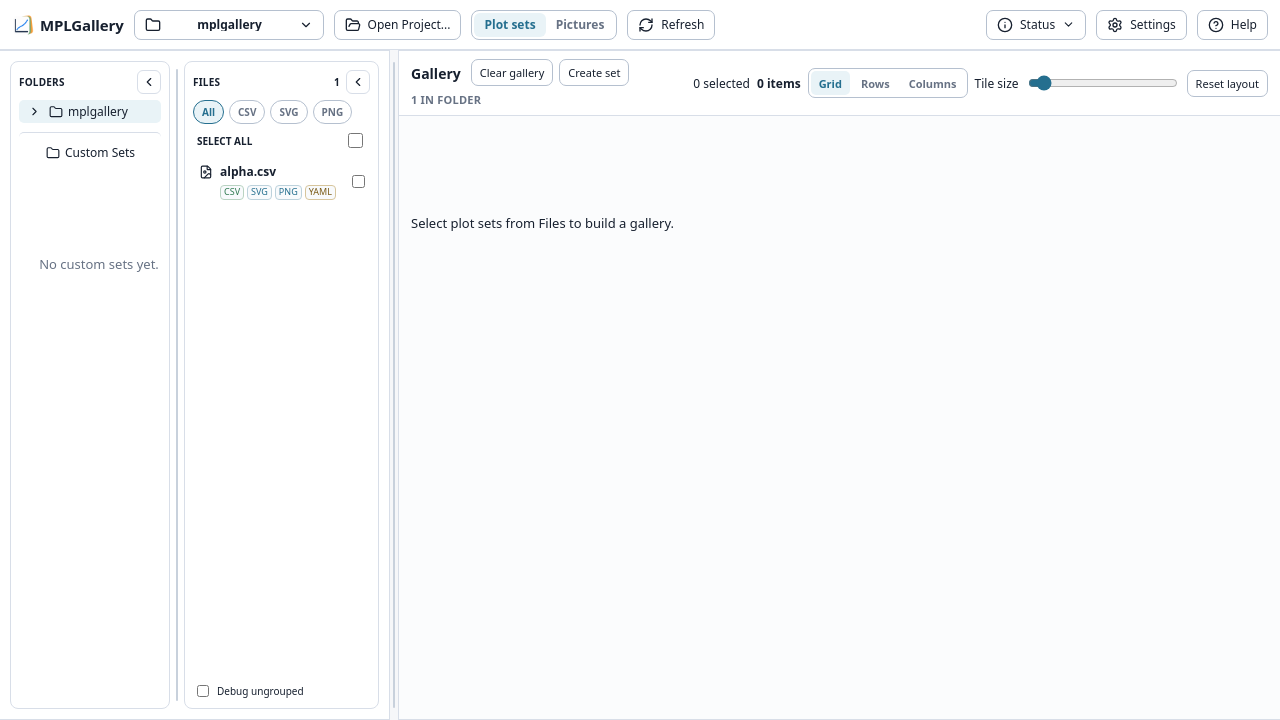
it: App explorer › plot-set cards expose CSV and image attachment tabs
Step 1. Click the checkbox named "Show alpha.csv" → (358, 181), box [352,175,365,188]
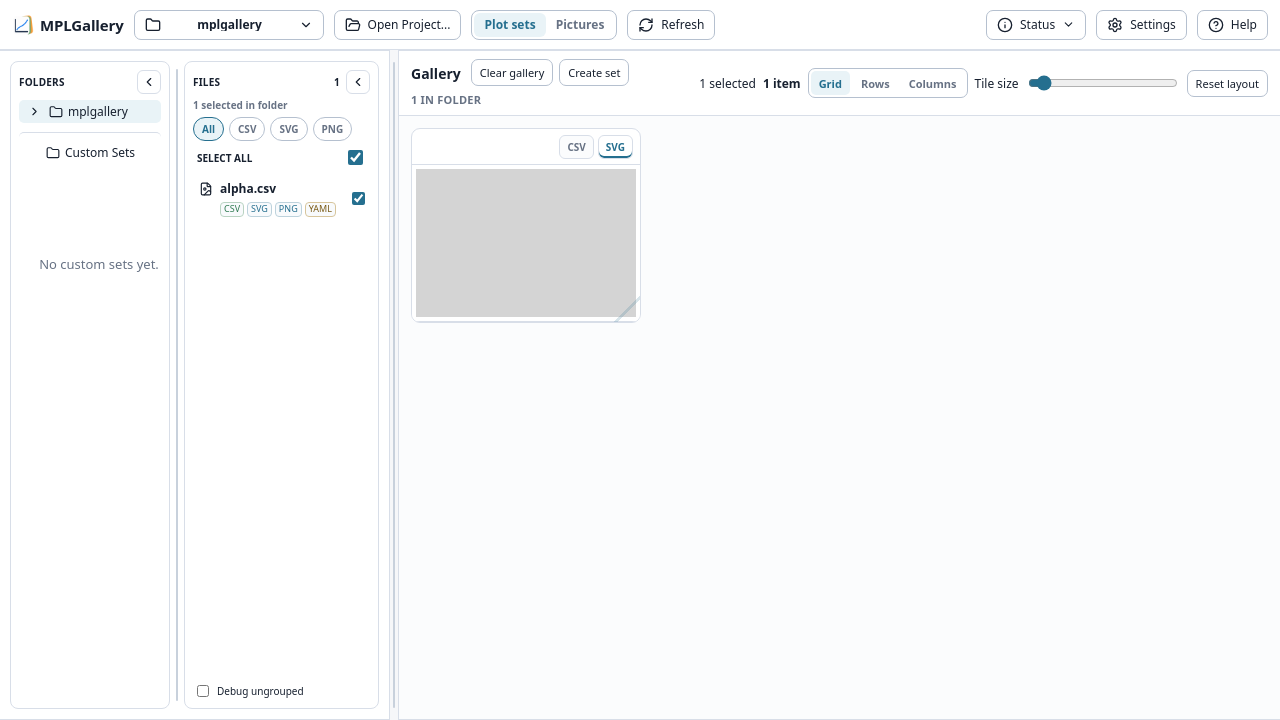
expect the checkbox named "Show alpha.csv" is checked: met, box [352,192,365,205]
Step 2. Click the tab "CSV" → (577, 146), box [560,134,594,158]
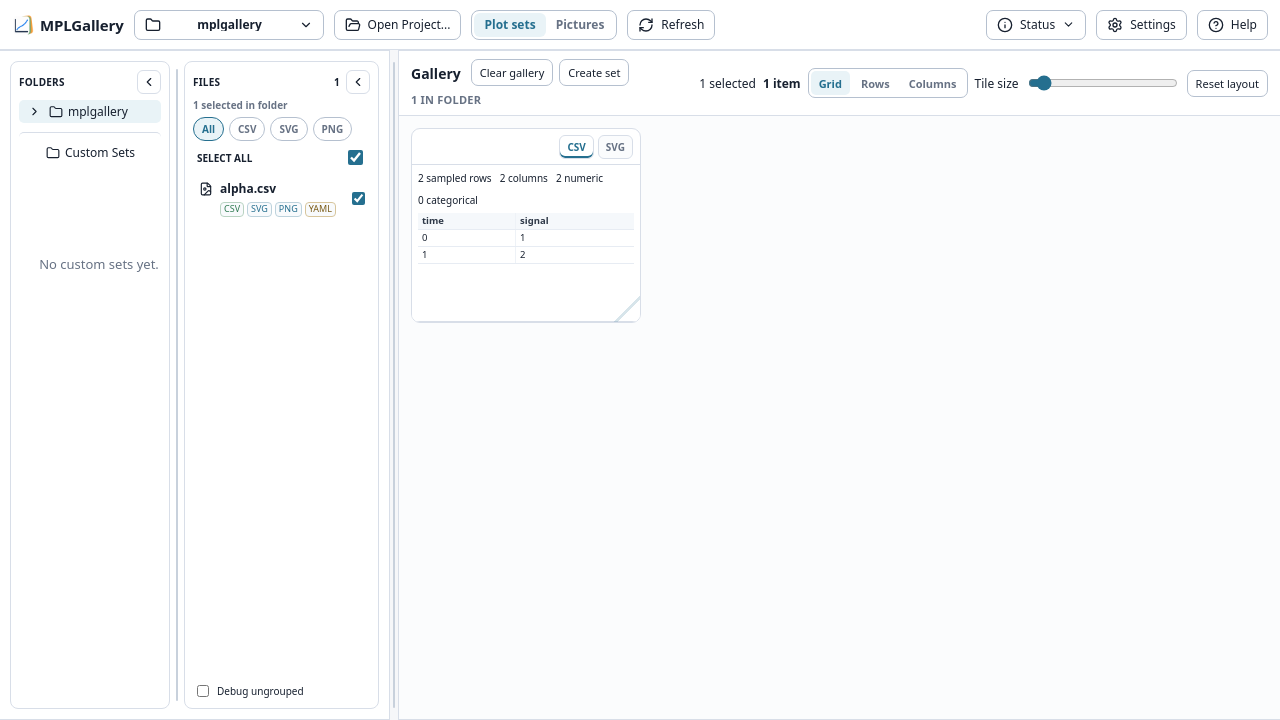
expect the table is shown: met, box [418,213,634,264]
expect the column heading "signal" is shown: met, box [516,213,634,229]
